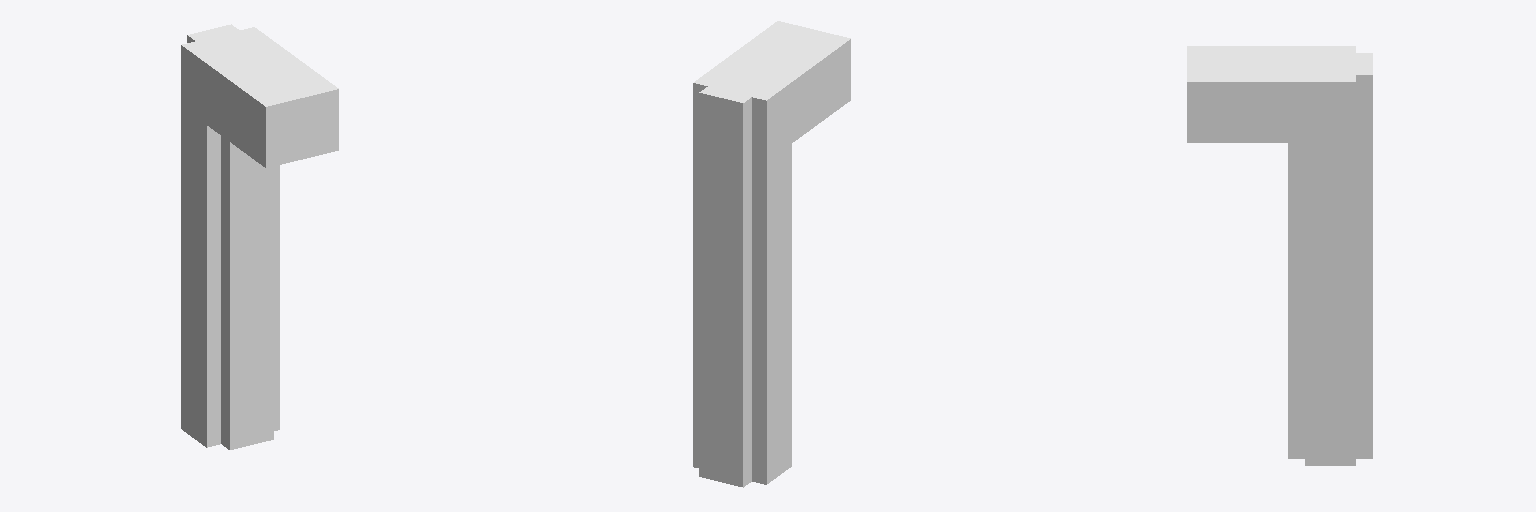
Rendered from human1_leg2.obj.
The picture shows the model from 3 angles: view 1: azimuth 30°, elevation 25°; view 2: azimuth 150°, elevation 25°; view 3: azimuth 270°, elevation 25°; orthographic projection.
Parts seen in each view (by area): view 1: human1_leg2; view 2: human1_leg2; view 3: human1_leg2.
Boxes of the visible parts, x1=… form: human1_leg2: x1=181, y1=24, x2=338, y2=449; human1_leg2: x1=693, y1=21, x2=850, y2=487; human1_leg2: x1=1187, y1=46, x2=1372, y2=465.
Bounding box in the file's own units: 5 × 25 × 11.